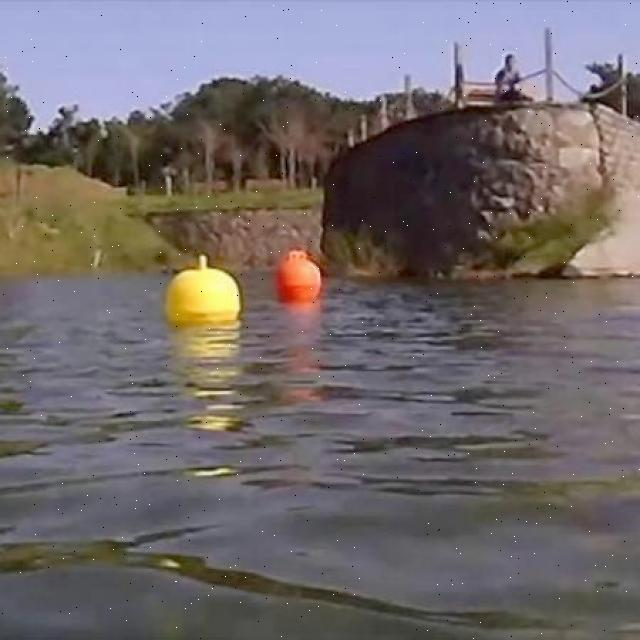buoy: (170, 258, 240, 319), (276, 248, 318, 302)
